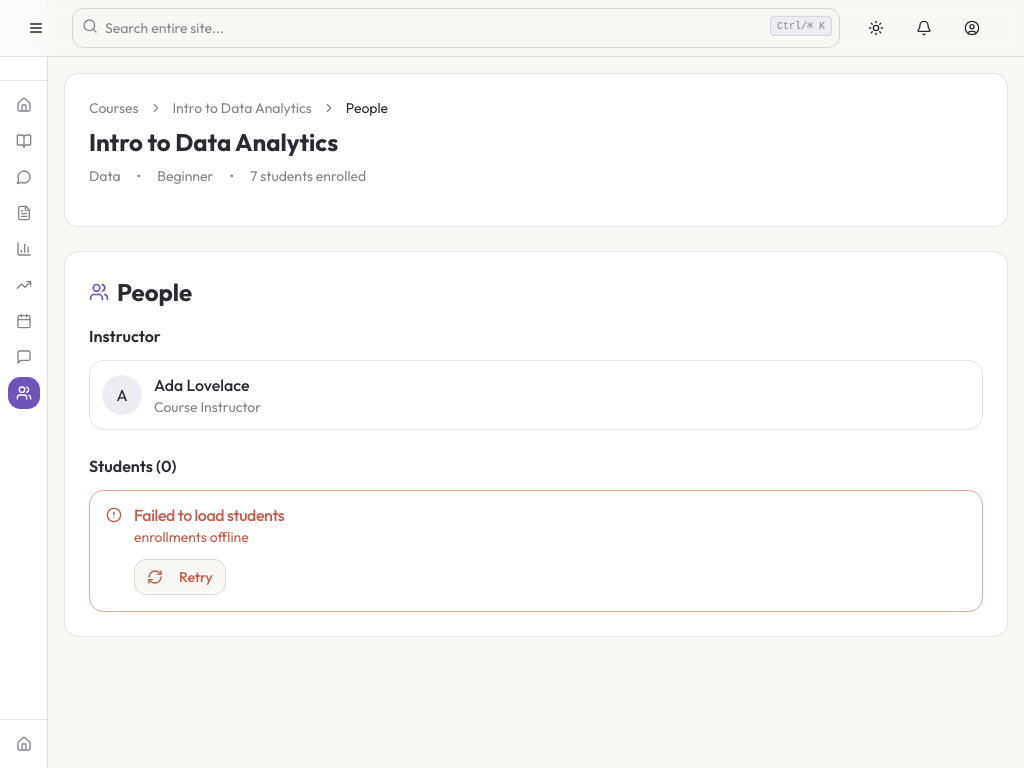
Test: CourseDetail › REGRESSION: a failed roster query shows an error UI — never "No students enrolled yet."
Expected: the heading "Failed to load students" is shown, left=134, top=505, right=284, bottom=525
Expected: the text "enrollments offline" is shown, left=134, top=528, right=249, bottom=546
Click the button "Retry": (180, 577) left=134, top=559, right=226, bottom=595
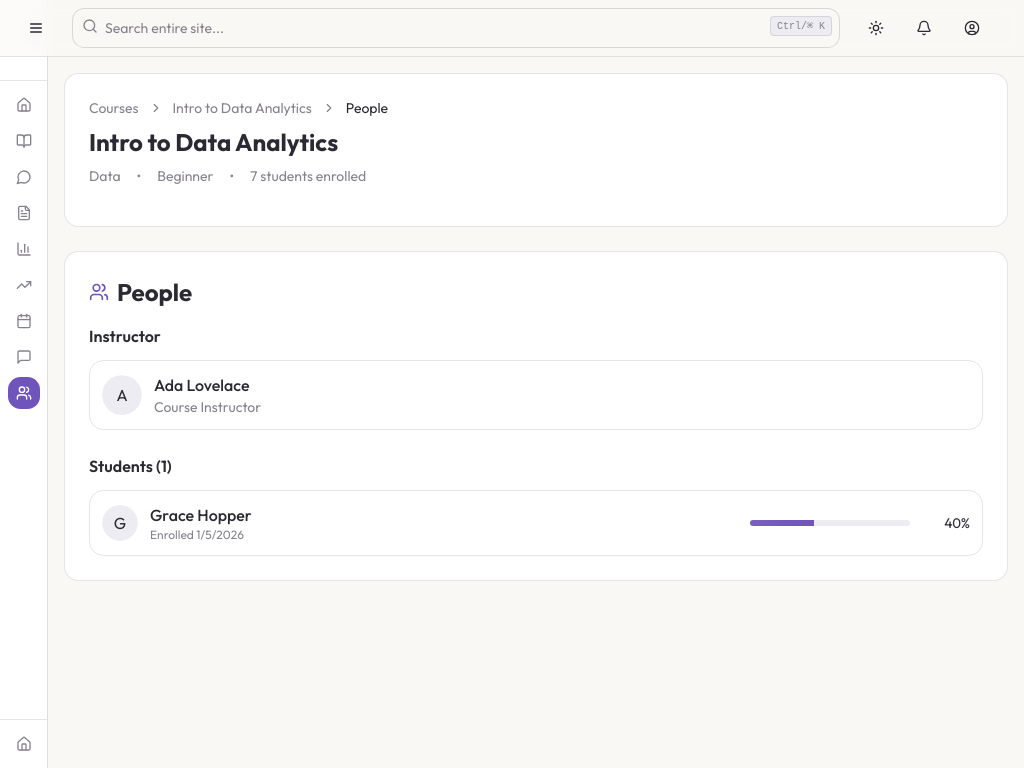
Result: the text "Grace Hopper" is shown at left=150, top=505, right=252, bottom=525
Result: the heading "Failed to load students" is gone
